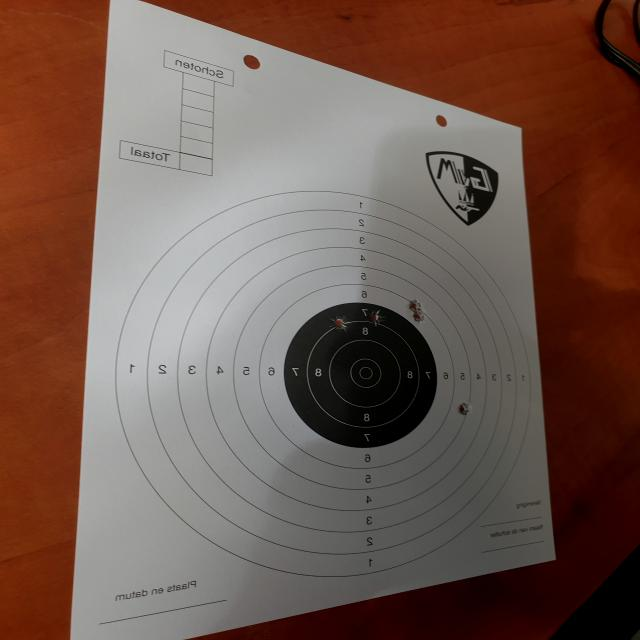5: (455, 403, 474, 417)
6: (406, 299, 422, 313), (413, 312, 425, 322)
8: (328, 315, 352, 332), (368, 310, 385, 326)
Target: (116, 189, 533, 578)
black_contour: (283, 302, 438, 447)
